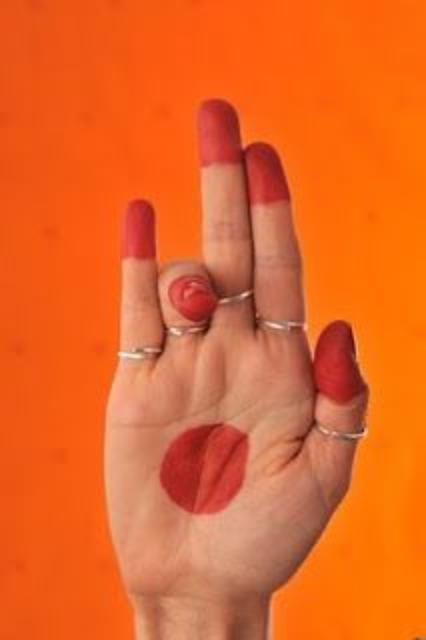tripataka: (102, 98, 372, 640)
